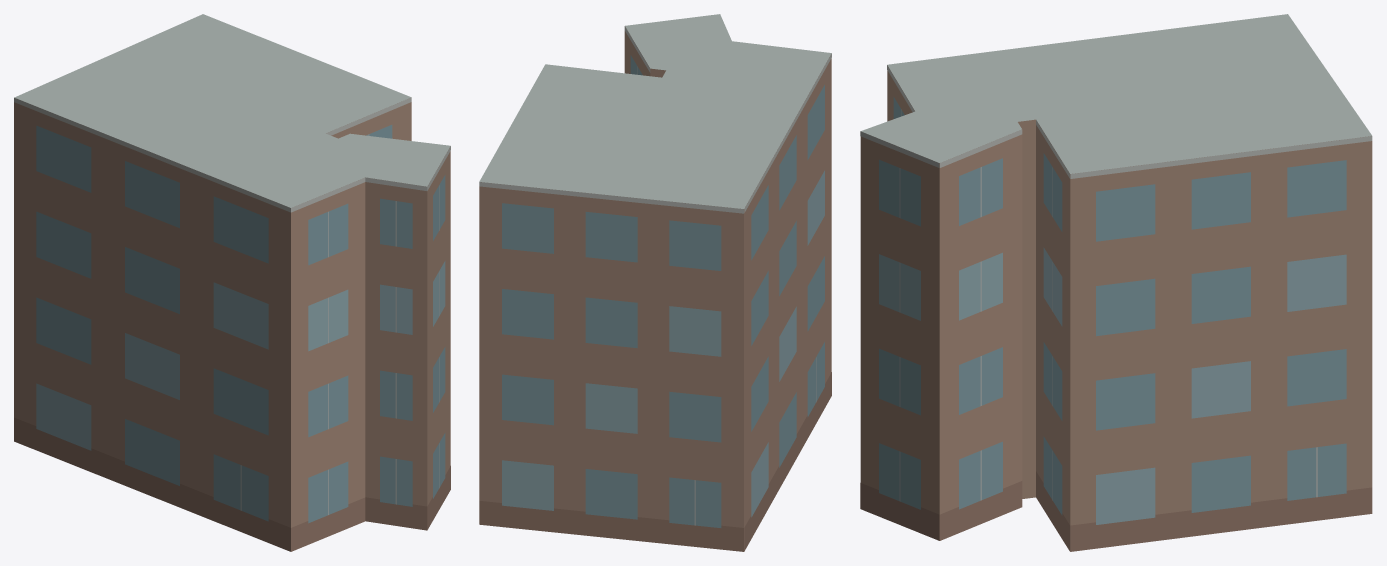
Rendered from survey-upis-32845821.glb.
3 renders of one model, left to right at view 1: azimuth 30°, elevation 25°; view 2: azimuth 150°, elevation 25°; view 3: azimuth 270°, elevation 25°, orthographic. The views are drawn at different scales.
Visible parts, largest first — view 1: survey-upis-32845821.tmp; view 2: survey-upis-32845821.tmp; view 3: survey-upis-32845821.tmp.
Boxes of the visible parts, bbox=[...] form: survey-upis-32845821.tmp: bbox=[14, 14, 450, 551]; survey-upis-32845821.tmp: bbox=[479, 14, 831, 551]; survey-upis-32845821.tmp: bbox=[860, 14, 1372, 551].
Size of the model in its own units: 16.64 by 18.3 by 22.48.
